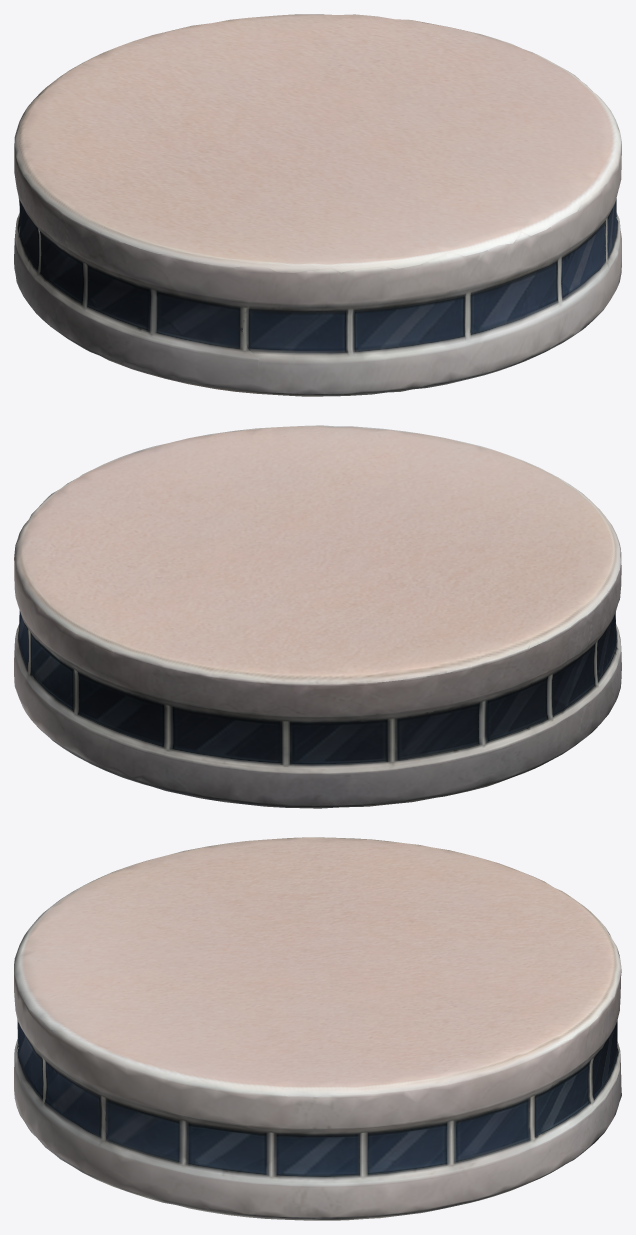
3 views of the same model, one above another, from view 1: azimuth 30°, elevation 25°; view 2: azimuth 150°, elevation 25°; view 3: azimuth 270°, elevation 25° (orthographic).
Visible parts, largest first — view 1: texture_mapping; view 2: texture_mapping; view 3: texture_mapping.
Boxes of the visible parts, left/top/right/bottom form: texture_mapping: left=14, top=14, right=621, bottom=396; texture_mapping: left=14, top=425, right=621, bottom=808; texture_mapping: left=14, top=837, right=621, bottom=1220.
Size of the model in its own units: 1 by 0.2462 by 1.
1 material, 1 textured.
